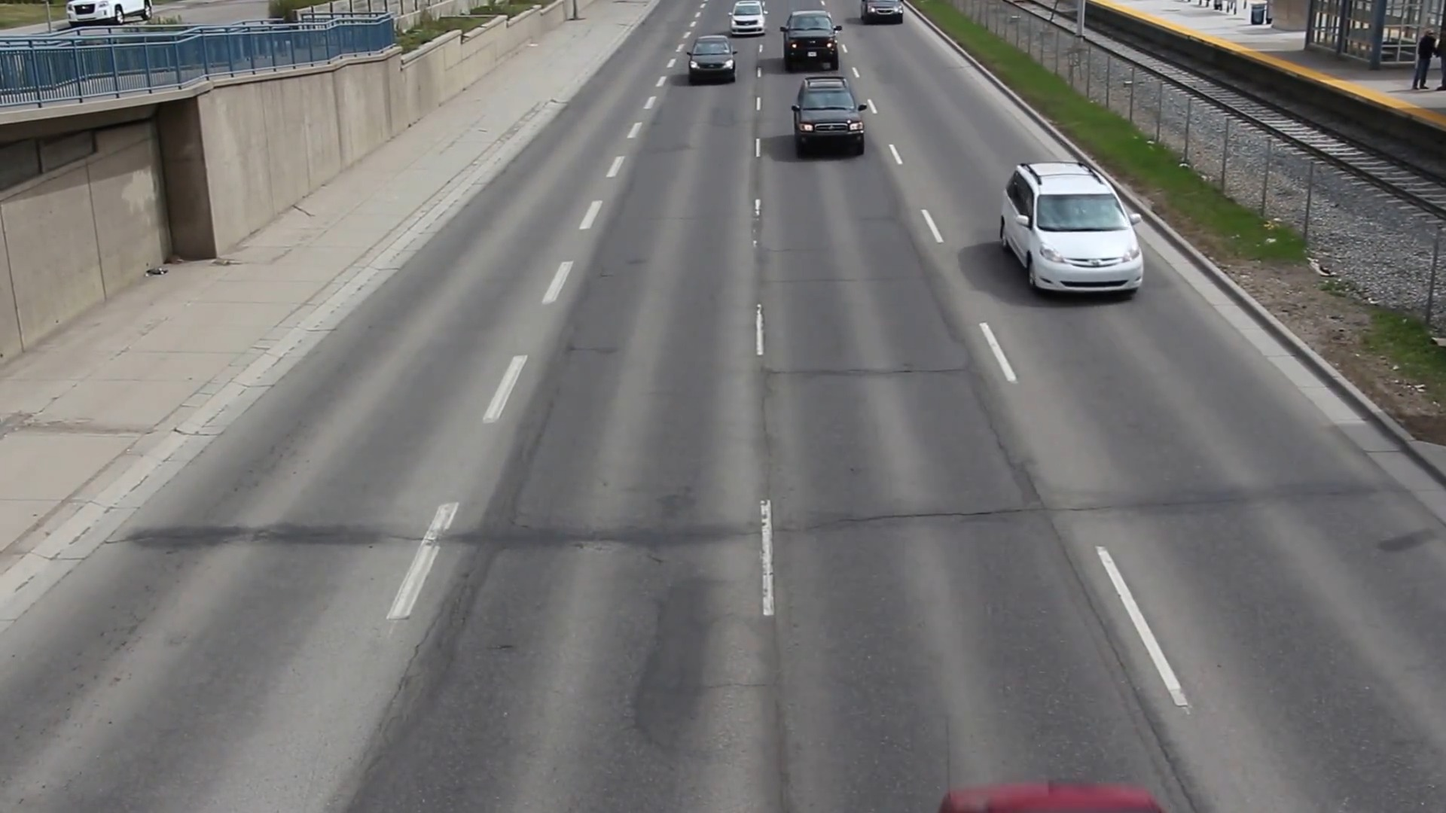car: (993, 155, 1153, 309), (793, 74, 867, 160), (776, 17, 843, 69), (688, 36, 736, 87)
